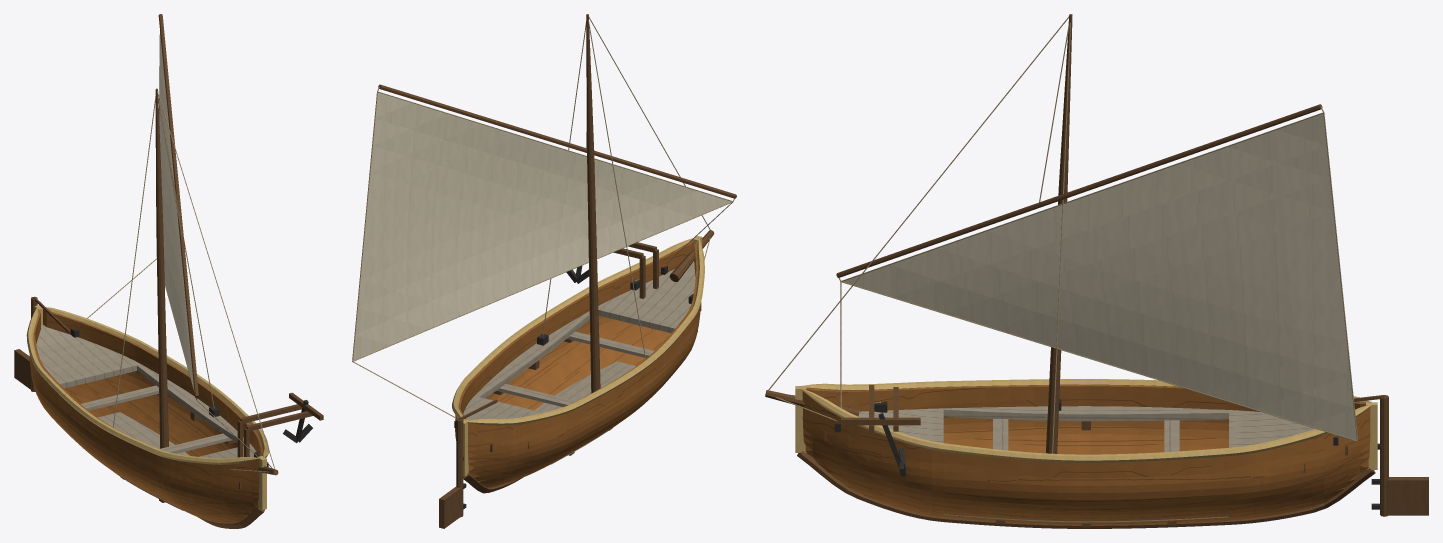
The picture shows the model from 3 angles, left to right: view 1: azimuth 30°, elevation 25°; view 2: azimuth 150°, elevation 25°; view 3: azimuth 270°, elevation 25°; orthographic projection. The views are drawn at different scales.
Parts seen in each view (by area): view 1: lod1_hull_shell_starboard, lod1_hull_shell_port, lod1_main_lateen_00, lod1_deck_stern, lod1_main, lod1_gunwale_starboard, lod1_main_lateen_00_lateen_yard, lod1_gunwale_port, lod1_deck_starboard_walkway, lod1_cockpit_sole, lod1_thwart_0, lod1_thwart_1 (+8 smaller); view 2: lod1_main_lateen_00, lod1_hull_shell_starboard, lod1_hull_shell_port, lod1_deck_bow, lod1_main, lod1_gunwale_starboard, lod1_main_lateen_00_lateen_yard, lod1_deck_starboard_walkway, lod1_gunwale_port, lod1_cockpit_sole, lod1_deck_stern, lod1_rudder_blade (+7 smaller); view 3: lod1_main_lateen_00, lod1_hull_shell_port, lod1_hull_shell_starboard, lod1_gunwale_port, lod1_deck_port_walkway, lod1_keel, lod1_main_lateen_00_lateen_yard, lod1_main, lod1_gunwale_starboard, lod1_deck_stern, lod1_rudder_blade, lod1_deck_bow (+5 smaller).
Boxes of the visible parts, bbox=[...] form: lod1_hull_shell_starboard: bbox=[29, 310, 259, 523]; lod1_hull_shell_port: bbox=[43, 309, 265, 457]; lod1_main_lateen_00: bbox=[159, 35, 194, 389]; lod1_deck_stern: bbox=[36, 324, 140, 388]; lod1_main: bbox=[155, 88, 168, 448]; lod1_gunwale_starboard: bbox=[26, 307, 260, 464]; lod1_main_lateen_00_lateen_yard: bbox=[158, 14, 198, 397]; lod1_gunwale_port: bbox=[46, 307, 269, 457]; lod1_deck_starboard_walkway: bbox=[137, 364, 250, 445]; lod1_cockpit_sole: bbox=[98, 412, 189, 510]; lod1_thwart_0: bbox=[81, 385, 159, 410]; lod1_thwart_1: bbox=[159, 433, 231, 453]; lod1_main_lateen_00: bbox=[353, 92, 731, 360]; lod1_hull_shell_starboard: bbox=[468, 241, 701, 487]; lod1_hull_shell_port: bbox=[455, 240, 693, 440]; lod1_deck_bow: bbox=[598, 261, 695, 333]; lod1_main: bbox=[586, 14, 600, 393]; lod1_gunwale_starboard: bbox=[466, 238, 704, 425]; lod1_main_lateen_00_lateen_yard: bbox=[378, 84, 736, 198]; lod1_deck_starboard_walkway: bbox=[475, 311, 589, 398]; lod1_gunwale_port: bbox=[452, 237, 695, 420]; lod1_cockpit_sole: bbox=[535, 361, 636, 464]; lod1_deck_stern: bbox=[463, 396, 542, 420]; lod1_rudder_blade: bbox=[439, 486, 461, 528]; lod1_main_lateen_00: bbox=[843, 113, 1356, 440]; lod1_hull_shell_port: bbox=[802, 391, 1370, 525]; lod1_hull_shell_starboard: bbox=[806, 384, 1365, 454]; lod1_gunwale_port: bbox=[801, 388, 1371, 462]; lod1_deck_port_walkway: bbox=[943, 406, 1228, 421]; lod1_keel: bbox=[797, 451, 1375, 528]; lod1_main_lateen_00_lateen_yard: bbox=[836, 104, 1322, 277]; lod1_main: bbox=[1046, 14, 1072, 453]; lod1_gunwale_starboard: bbox=[800, 379, 1371, 402]; lod1_deck_stern: bbox=[1229, 410, 1314, 447]; lod1_rudder_blade: bbox=[1386, 477, 1428, 515]; lod1_deck_bow: bbox=[858, 408, 943, 442].
Bounding box in the file's own units: 4.12 × 8.95 × 10.46.
7 materials, 7 textured.
